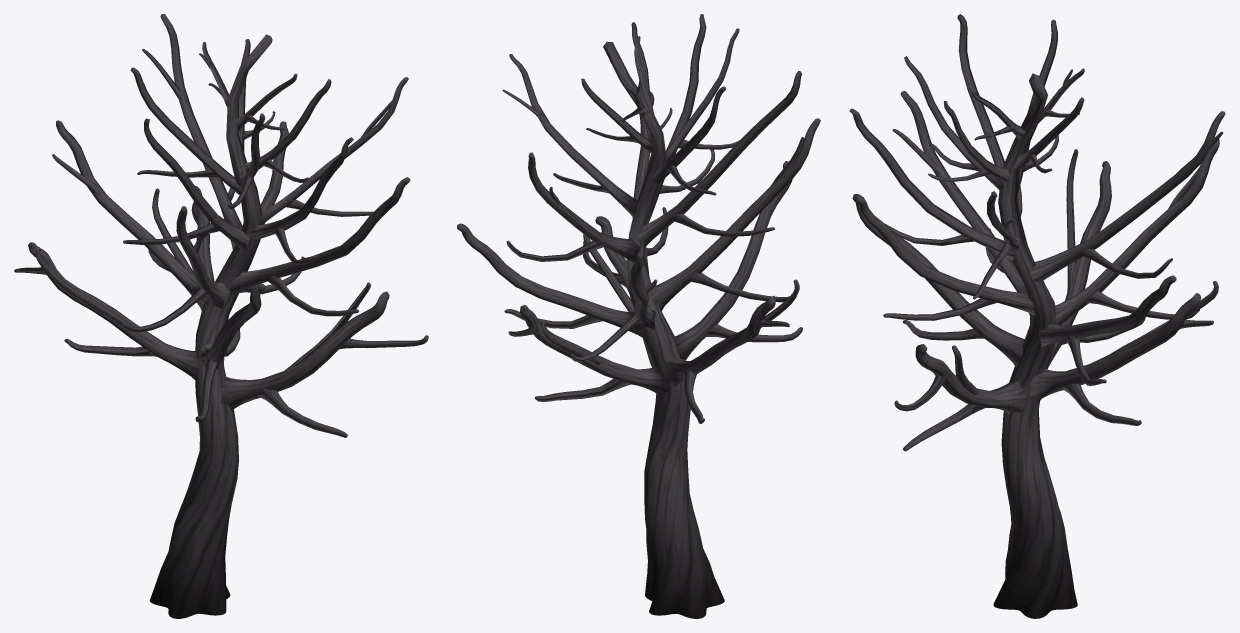
File: Dead_1.glb
3 views of the same model, side by side, from view 1: azimuth 30°, elevation 25°; view 2: azimuth 150°, elevation 25°; view 3: azimuth 270°, elevation 25° (orthographic). The views are drawn at different scales.
Parts seen in each view (by area): view 1: DeadTree_1; view 2: DeadTree_1; view 3: DeadTree_1.
Part boxes in pixels (x1=…): DeadTree_1: x1=14, y1=14, x2=428, y2=618; DeadTree_1: x1=457, y1=14, x2=820, y2=618; DeadTree_1: x1=849, y1=14, x2=1225, y2=618.
Bounding box in the file's own units: 6.15 × 9.5 × 5.75.
Materials: 1 (1 with a texture image).
